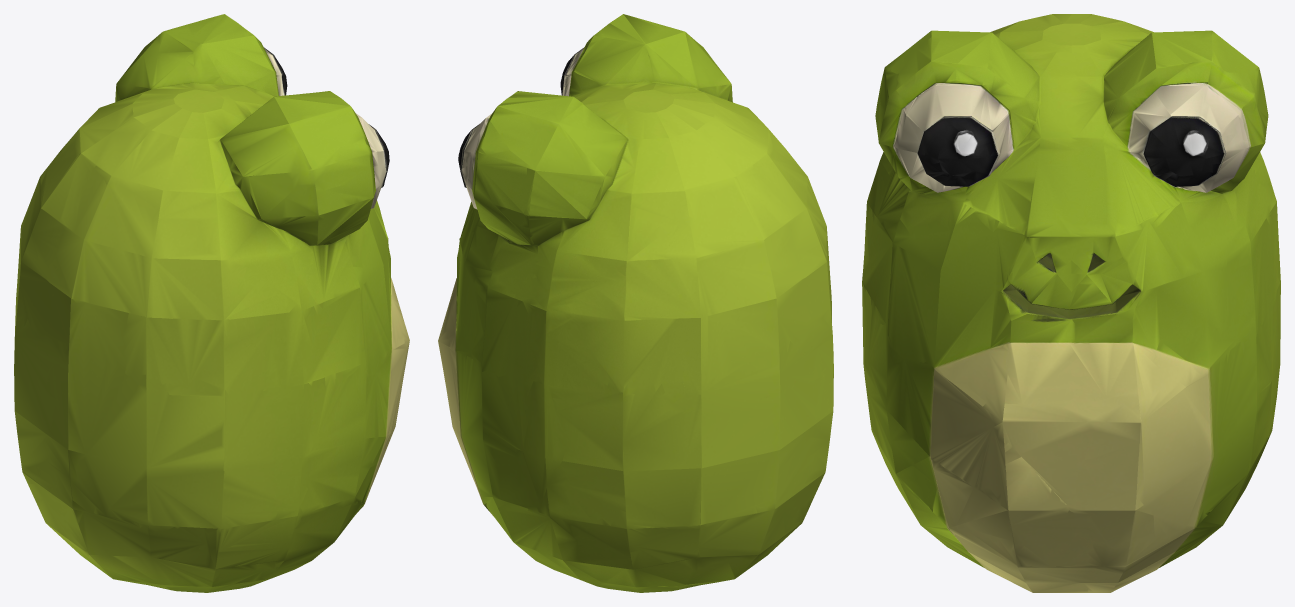
Rendered from frog_v3.fbx.
The picture shows the model from 3 angles, left to right: view 1: azimuth 30°, elevation 25°; view 2: azimuth 150°, elevation 25°; view 3: azimuth 270°, elevation 25°; orthographic projection. The views are drawn at different scales.
Parts seen in each view (by area): view 1: tripo_node_a7d9caeb; view 2: tripo_node_a7d9caeb; view 3: tripo_node_a7d9caeb.
Part boxes in pixels (bbox=[...]): tripo_node_a7d9caeb: bbox=[14, 14, 409, 592]; tripo_node_a7d9caeb: bbox=[438, 14, 833, 592]; tripo_node_a7d9caeb: bbox=[862, 14, 1280, 592].
Bounding box in the file's own units: 71.83 × 97.98 × 69.25.
